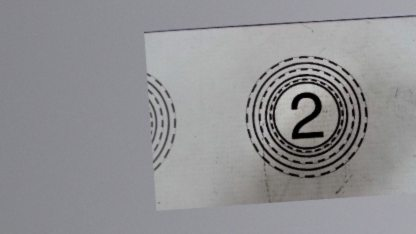2r: (239, 50, 371, 182)
